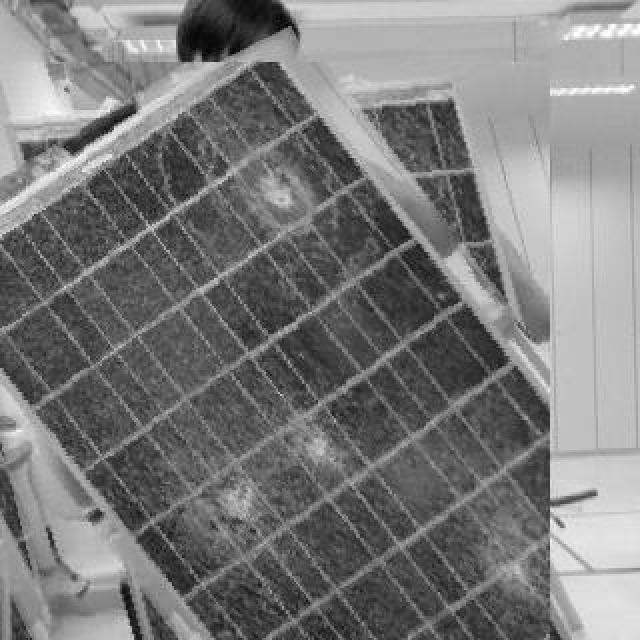Physical-damage: (191, 139, 335, 256), (466, 482, 547, 612), (179, 455, 271, 549), (263, 405, 365, 482)
